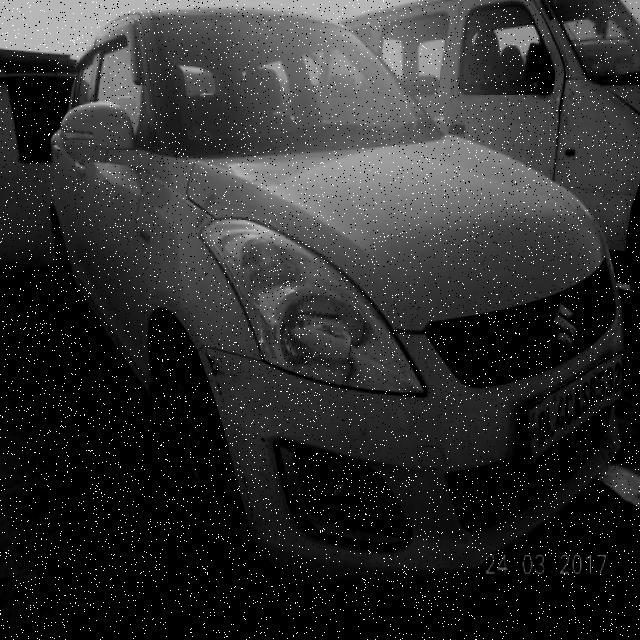car damage: (231, 417, 275, 546), (206, 352, 228, 387)
